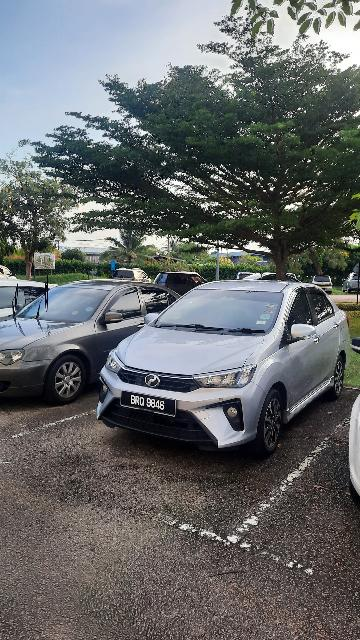License_Plate: (120, 388, 180, 421)
car: (102, 277, 353, 460), (1, 276, 195, 404)
